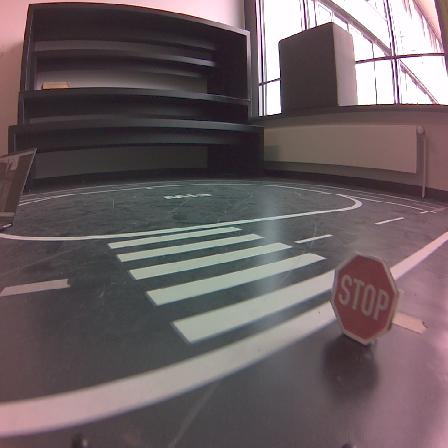STOP: (331, 254, 398, 344)
